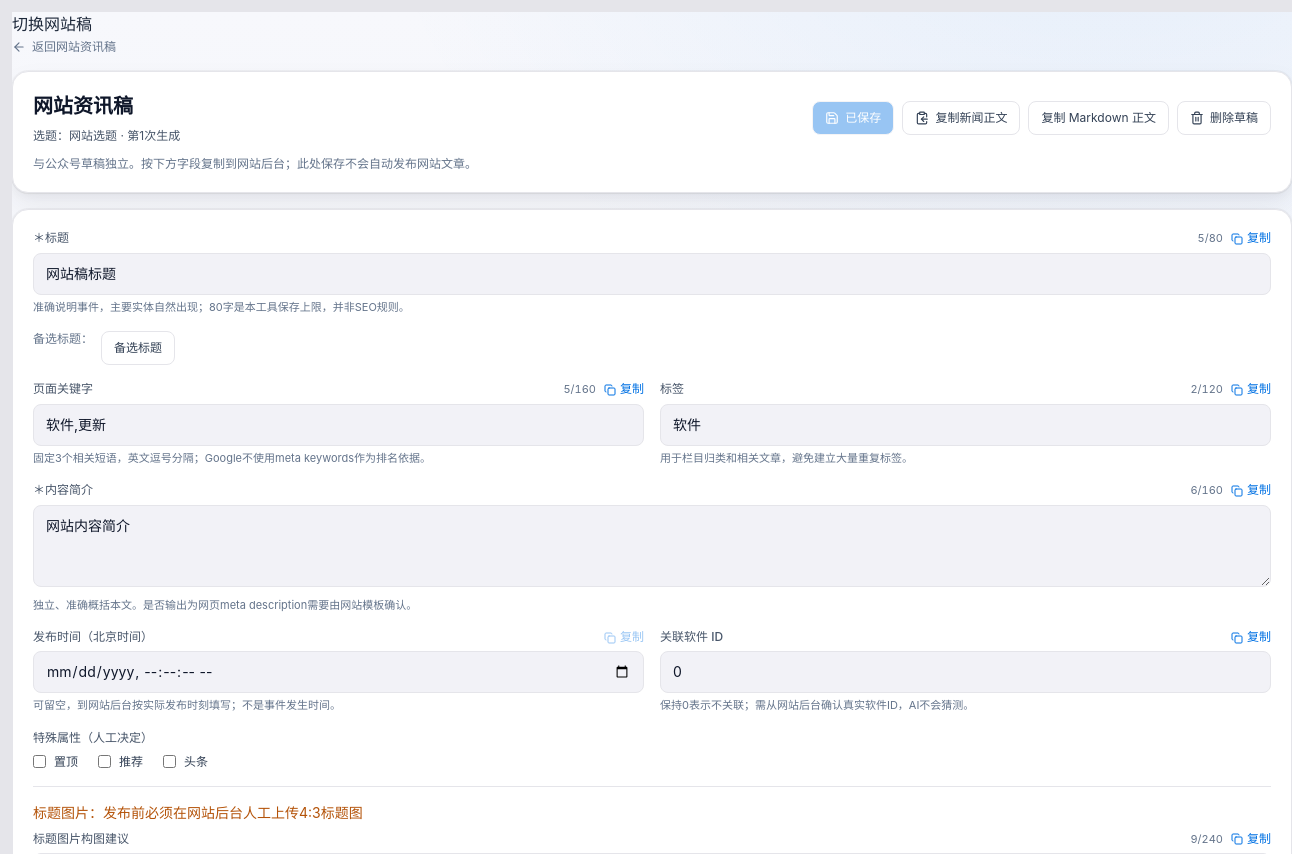
Test case: website CMS fields › keeps edits made while an earlier save is pending
Replace the text in the field labelled "＊标题" with "提交标题" at (652, 274), box [33,252,1271,294]
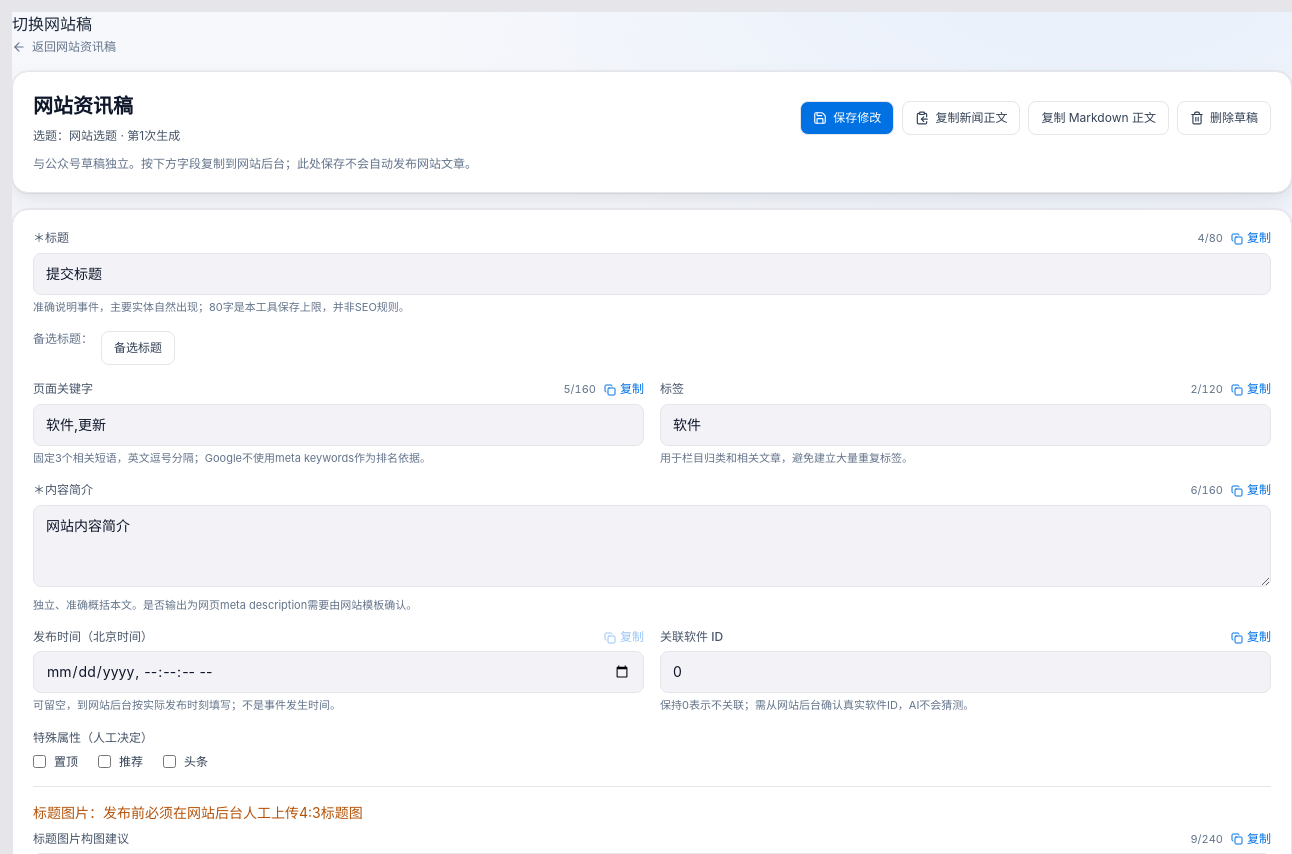
Click the button "保存修改" at (847, 118), box [800,101,894,135]
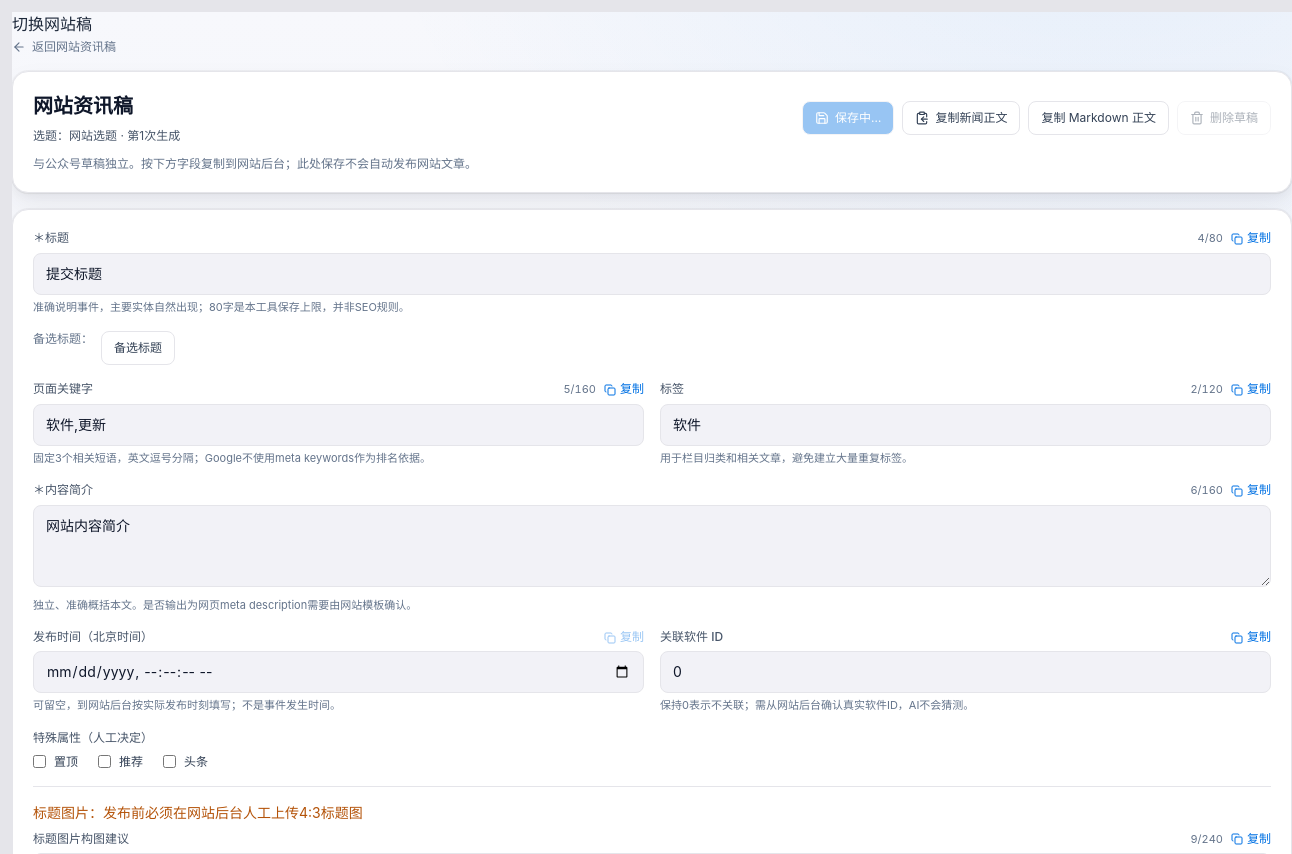
Replace the text in the field labelled "＊标题" with "继续修改" at (652, 274), box [33,252,1271,294]
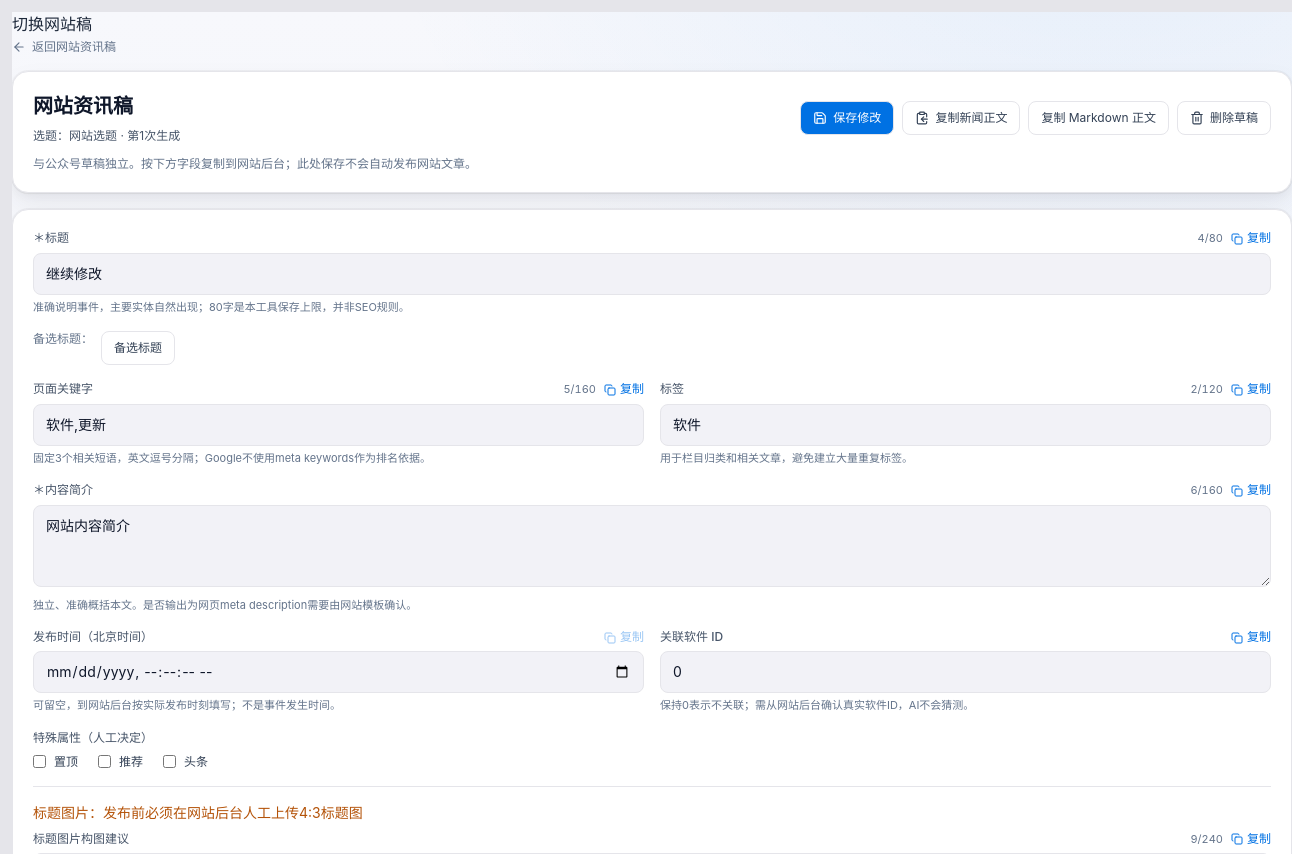
Now the button "保存修改" is shown, box [800,101,894,135]
